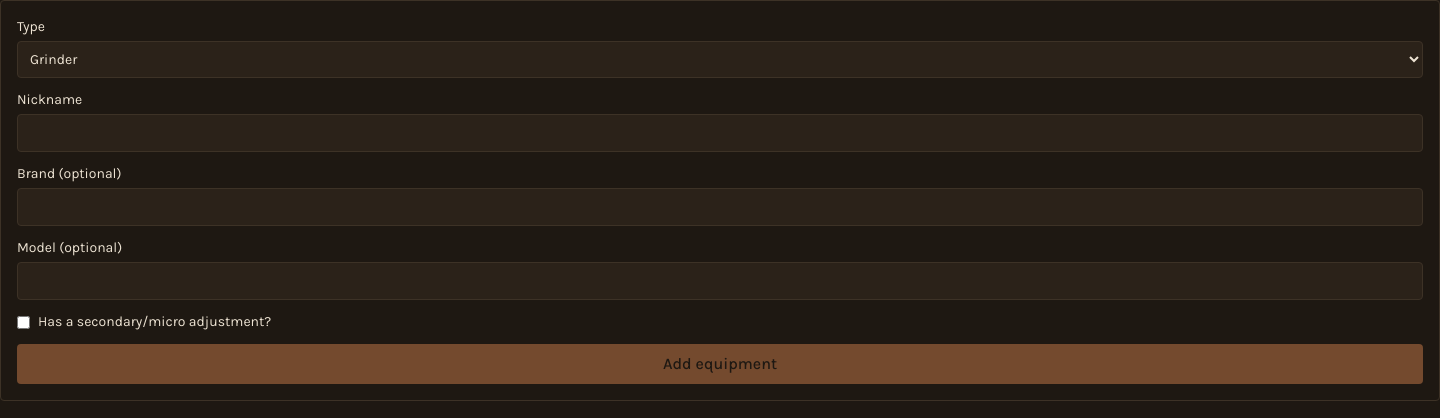
Test case: EquipmentForm › does not offer the micro-dial toggle when kind is machine
Select "Machine" in the dropdown labelled "Type" at (720, 60), box [17,41,1423,78]
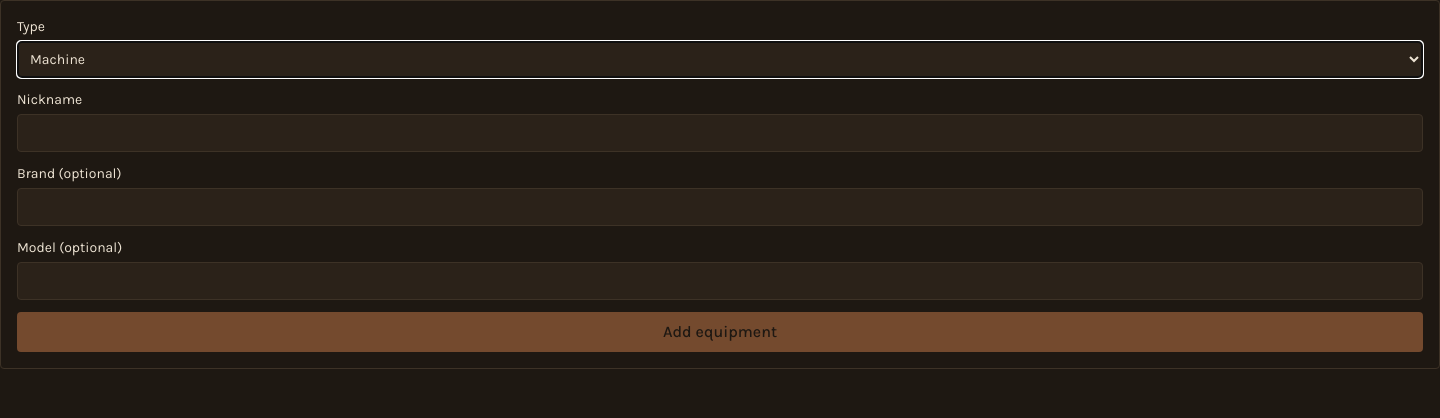
Expected: the label labelled "secondary/micro adjustment" is gone
